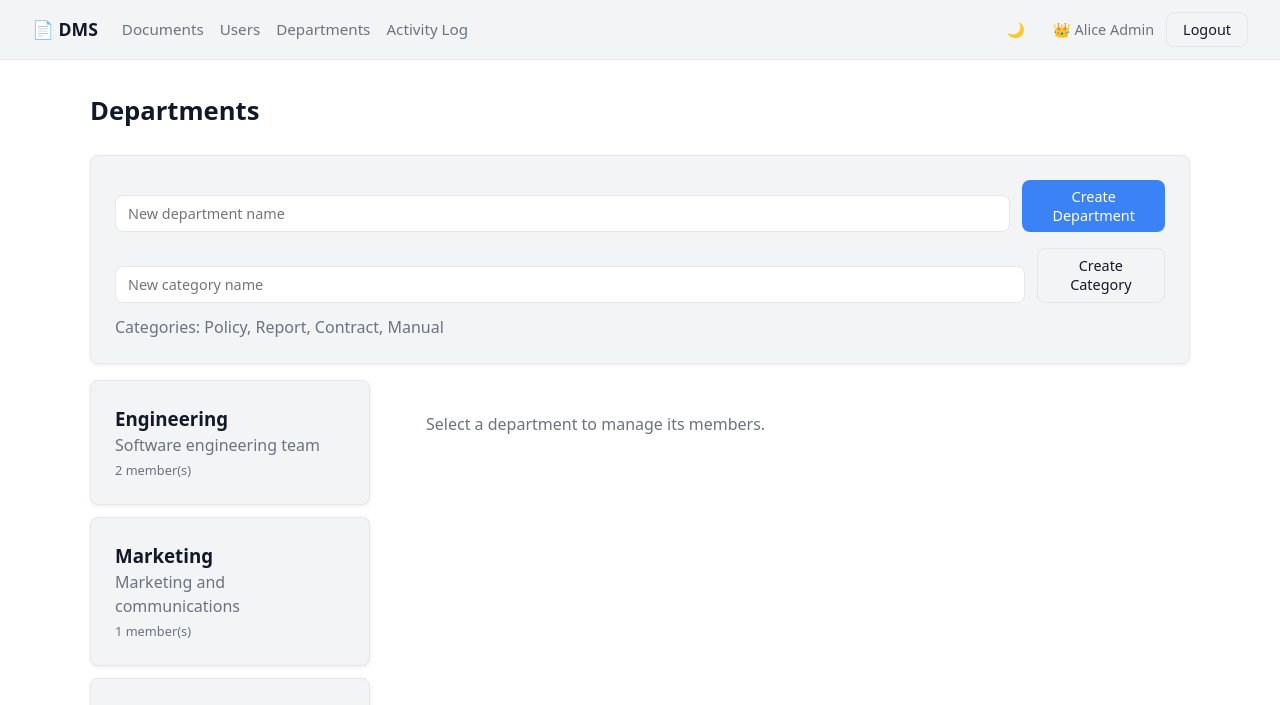
Test: Admin Departments Page › selects a department and shows members
Click the element with test id "dept-card" that starts with "Engineering". click: [230, 443]
box: [90,380,370,505]
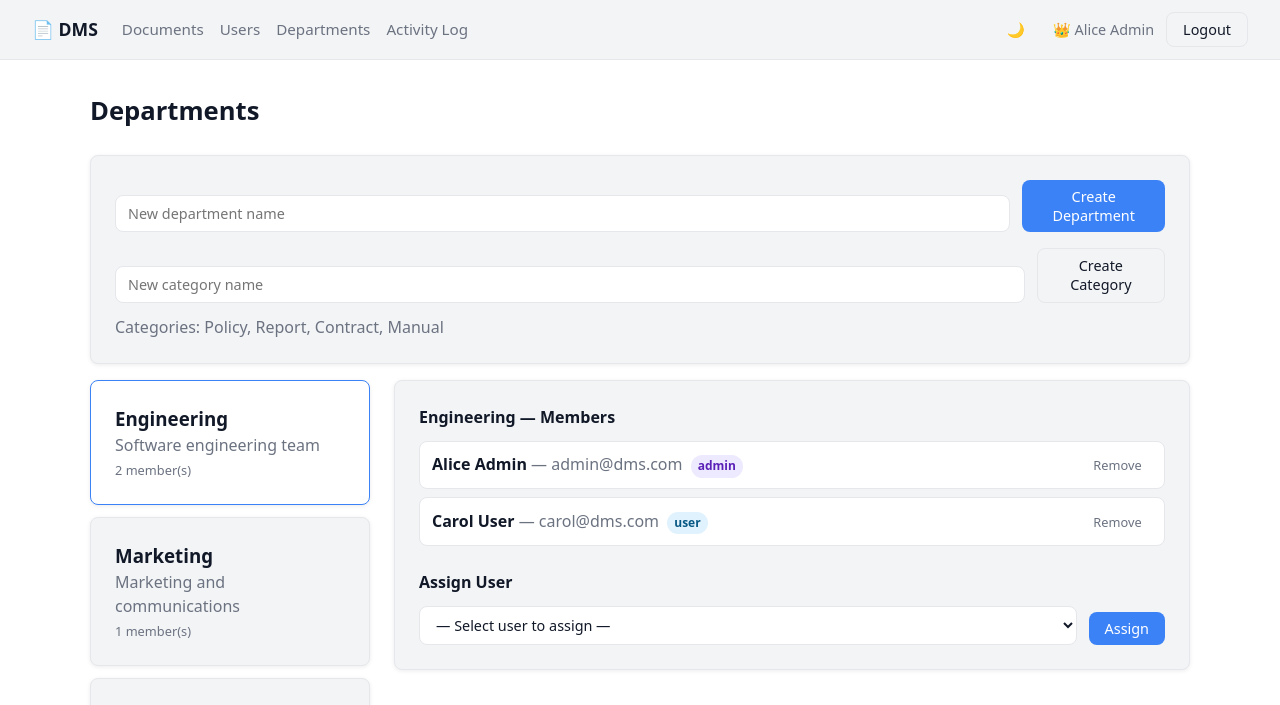
Expected: the heading "Engineering — Members" is shown, [419,406,615,428]
